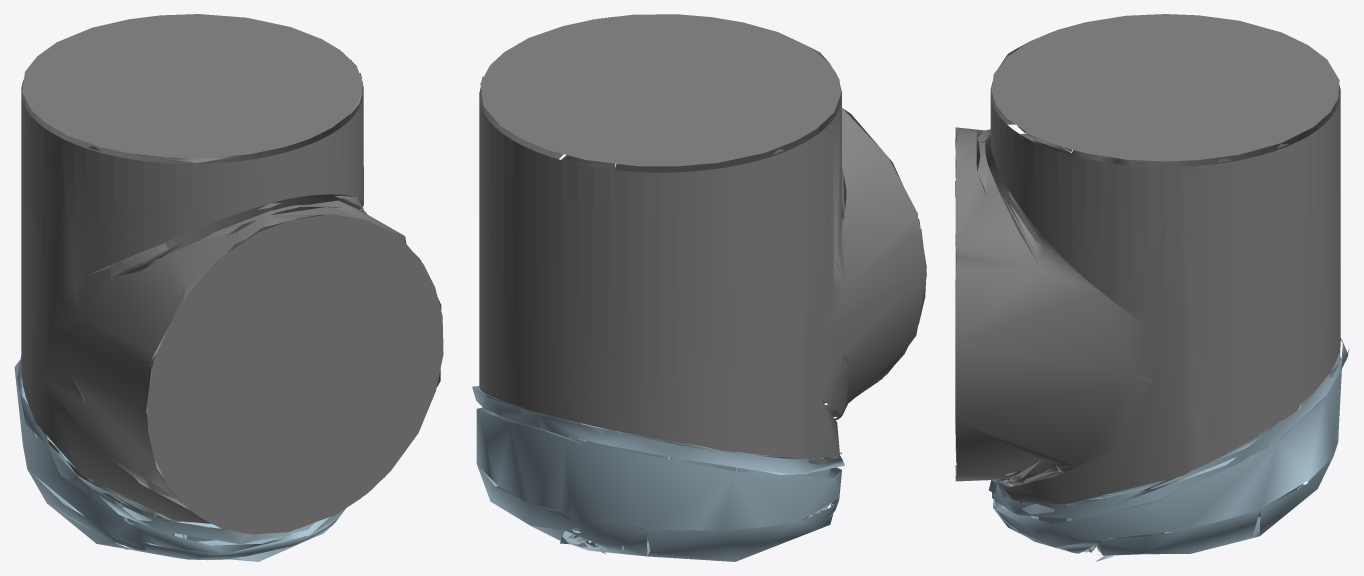
File: wrist1.dae
3 views of the same model, side by side, from view 1: azimuth 30°, elevation 25°; view 2: azimuth 150°, elevation 25°; view 3: azimuth 270°, elevation 25° (orthographic). The views are drawn at different scales.
Visible parts, largest first — view 1: node-shape0-name, node-shape1-name; view 2: node-shape0-name, node-shape1-name; view 3: node-shape0-name, node-shape1-name.
Boxes of the visible parts, <box> form: node-shape0-name: <box>21,14,443,534</box>; node-shape1-name: <box>14,273,345,561</box>; node-shape0-name: <box>477,14,926,464</box>; node-shape1-name: <box>472,386,844,561</box>; node-shape0-name: <box>955,14,1342,504</box>; node-shape1-name: <box>989,338,1349,561</box>.
Size of the model in its own units: 0.0928 by 0.1013 by 0.1189.
